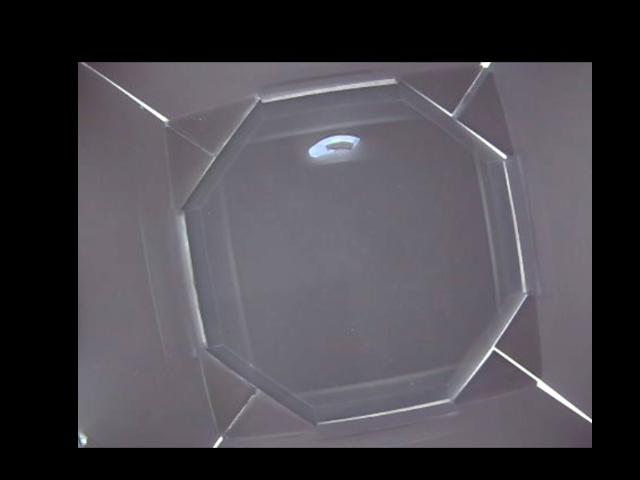China: (306, 132, 358, 163)
